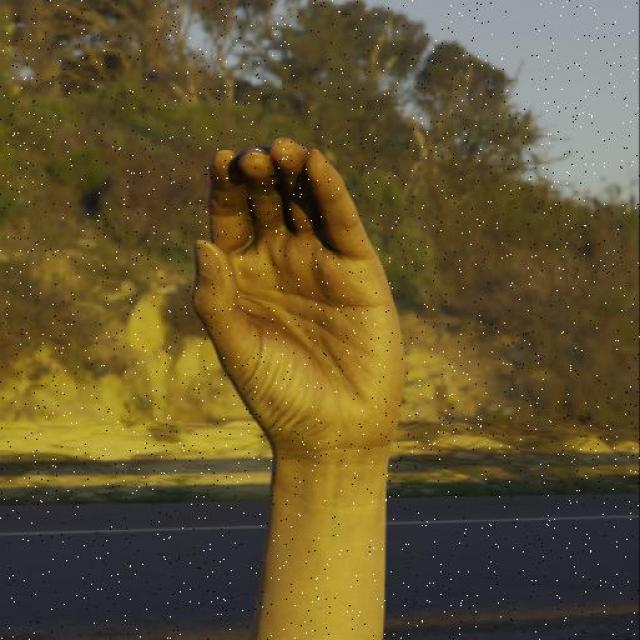C: (186, 131, 410, 454)
